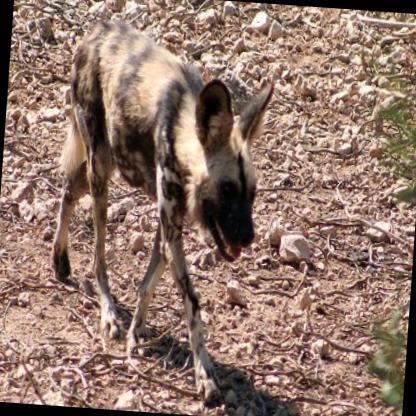African_hunting_dog: (37, 12, 280, 411)
